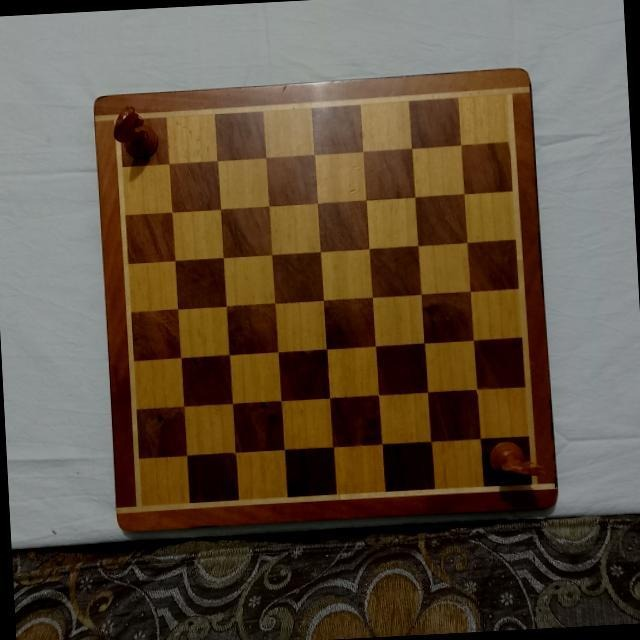white-knight: (111, 105, 161, 163), (487, 437, 545, 486)
